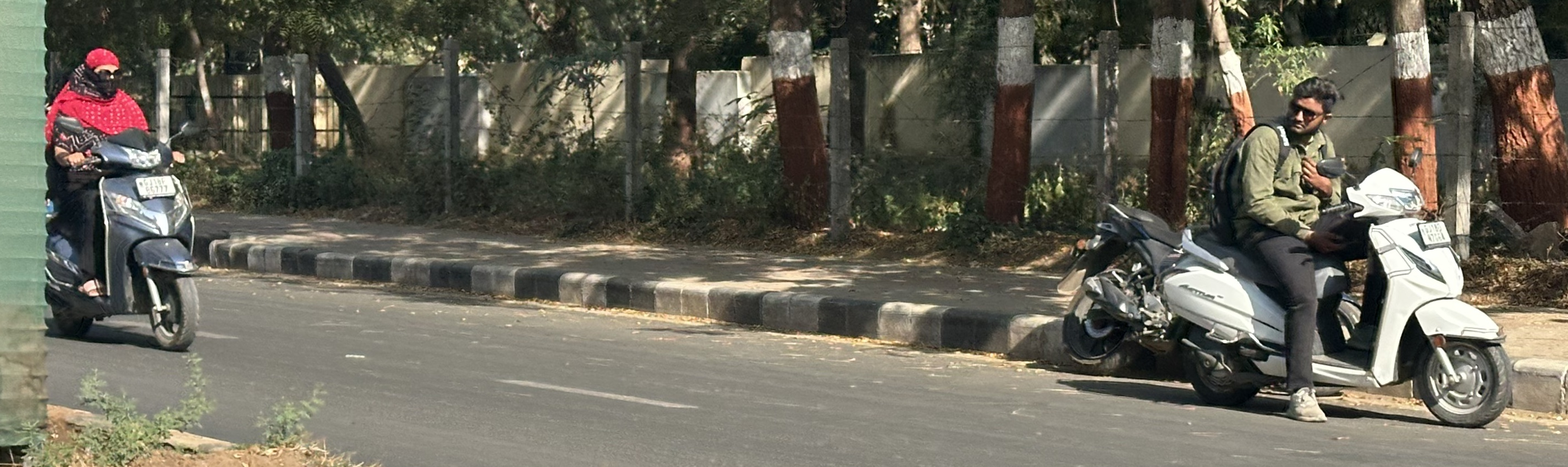BikeWithRider: (1048, 68, 1525, 433), (27, 40, 219, 358)
NoHelmet: (1276, 71, 1349, 142), (74, 43, 129, 90)
